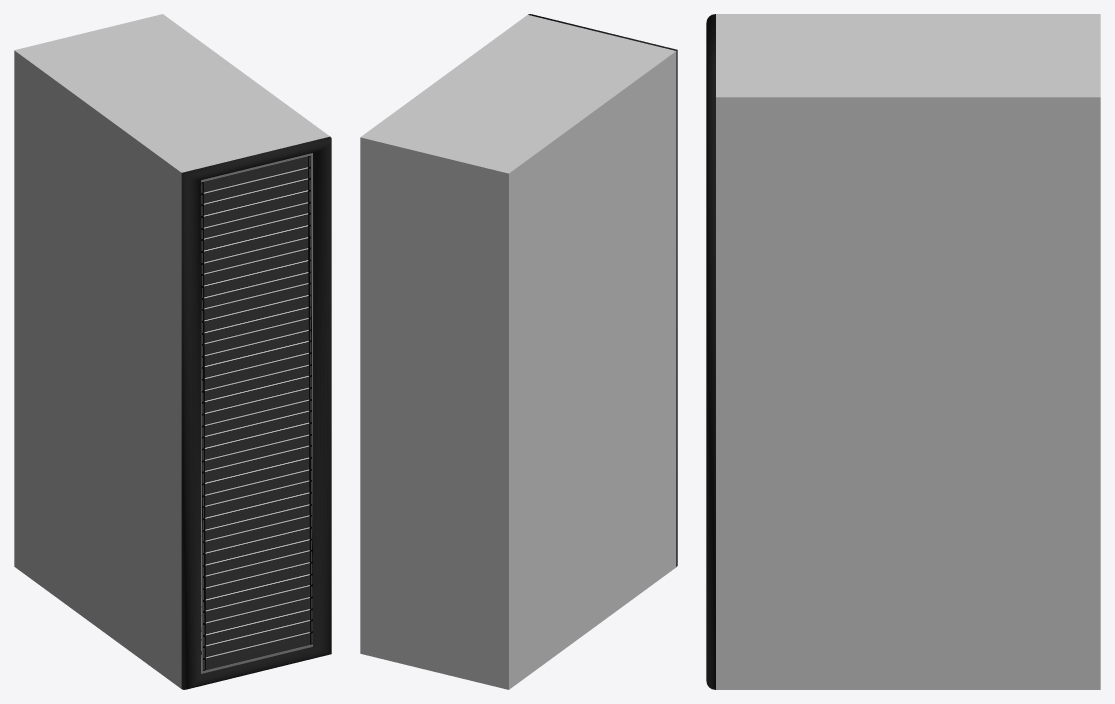
The model's file is Cabinet_210903.glb.
3 renders of one model, left to right at view 1: azimuth 30°, elevation 25°; view 2: azimuth 150°, elevation 25°; view 3: azimuth 270°, elevation 25°, orthographic. The views are drawn at different scales.
Parts seen in each view (by area): view 1: Cabinet; view 2: Cabinet; view 3: Cabinet.
Part boxes in pixels (x1=…): Cabinet: x1=14, y1=14, x2=331, y2=689; Cabinet: x1=360, y1=14, x2=677, y2=689; Cabinet: x1=706, y1=14, x2=1100, y2=689.
Bounding box in the file's own units: 0.5999 × 1.99 × 1.2.
3 materials, 1 textured.
